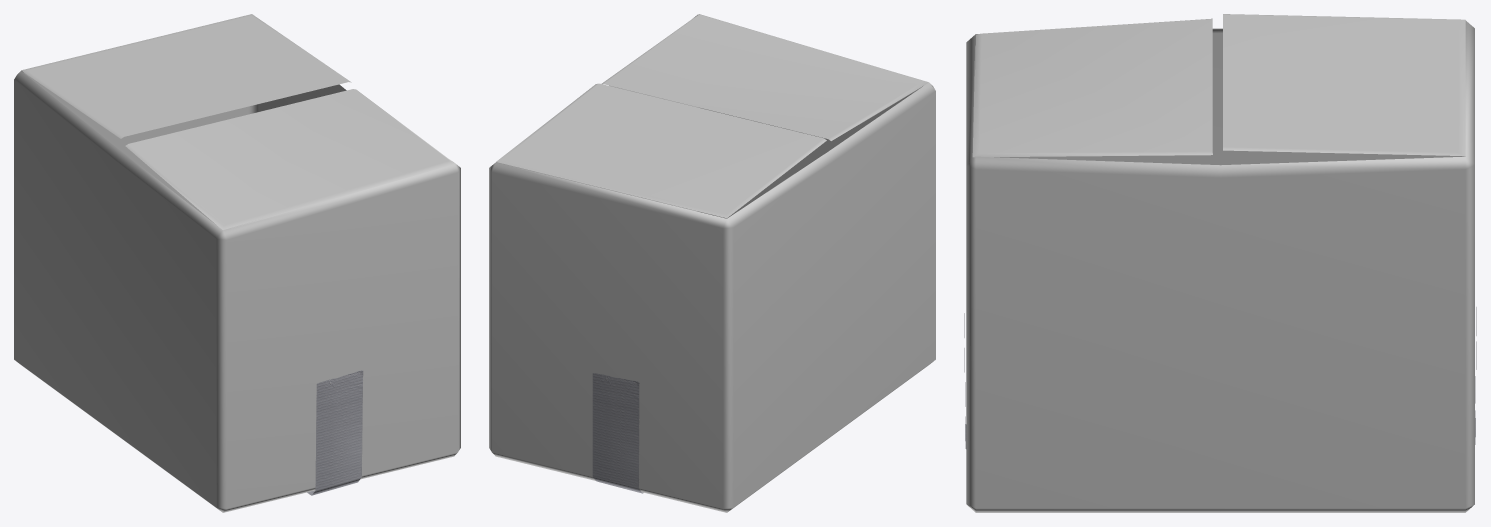
Rendered from SeanElston_Box_4.fbx.
3 views of the same model, side by side, from view 1: azimuth 30°, elevation 25°; view 2: azimuth 150°, elevation 25°; view 3: azimuth 270°, elevation 25° (orthographic). The views are drawn at different scales.
Visible parts, largest first — view 1: Box116; view 2: Box116; view 3: Box116.
Boxes of the visible parts, x1,y1,x2,y2 form: Box116: (14, 14, 460, 512); Box116: (489, 14, 935, 512); Box116: (964, 14, 1476, 512).
Bounding box in the file's own units: 35.71 × 42.52 × 53.46.
